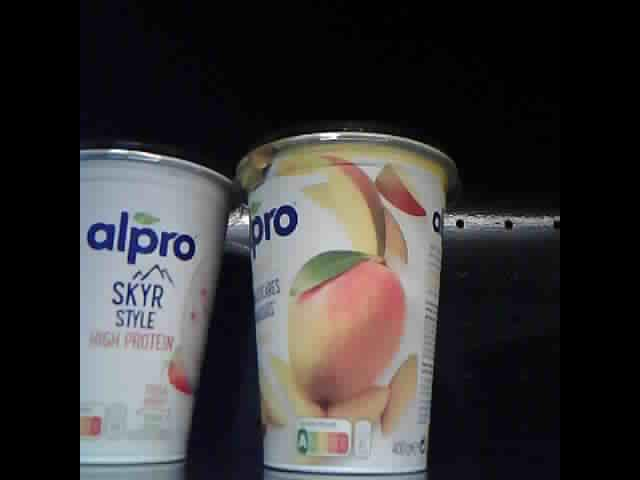alpro: (235, 120, 457, 477), (81, 133, 237, 466)
